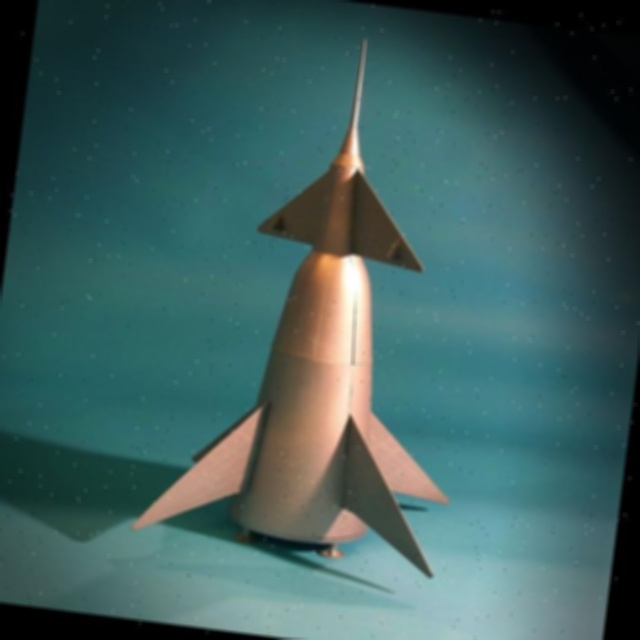rocket: (109, 5, 518, 601)
